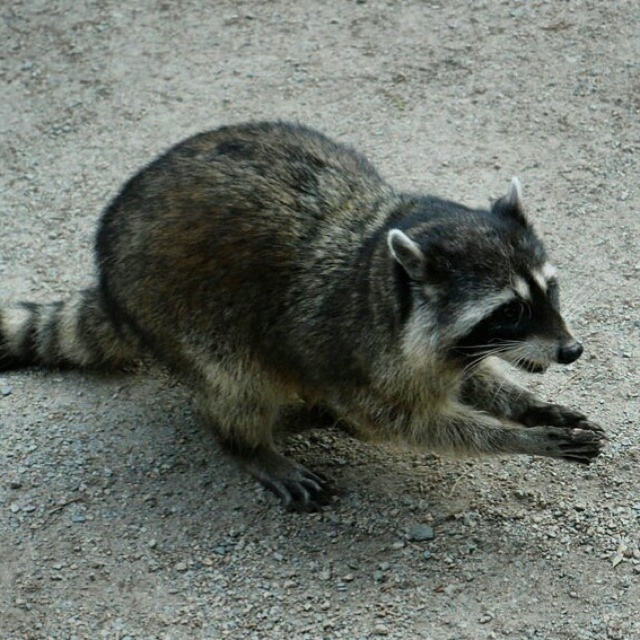Raccoon: (0, 119, 601, 511)
